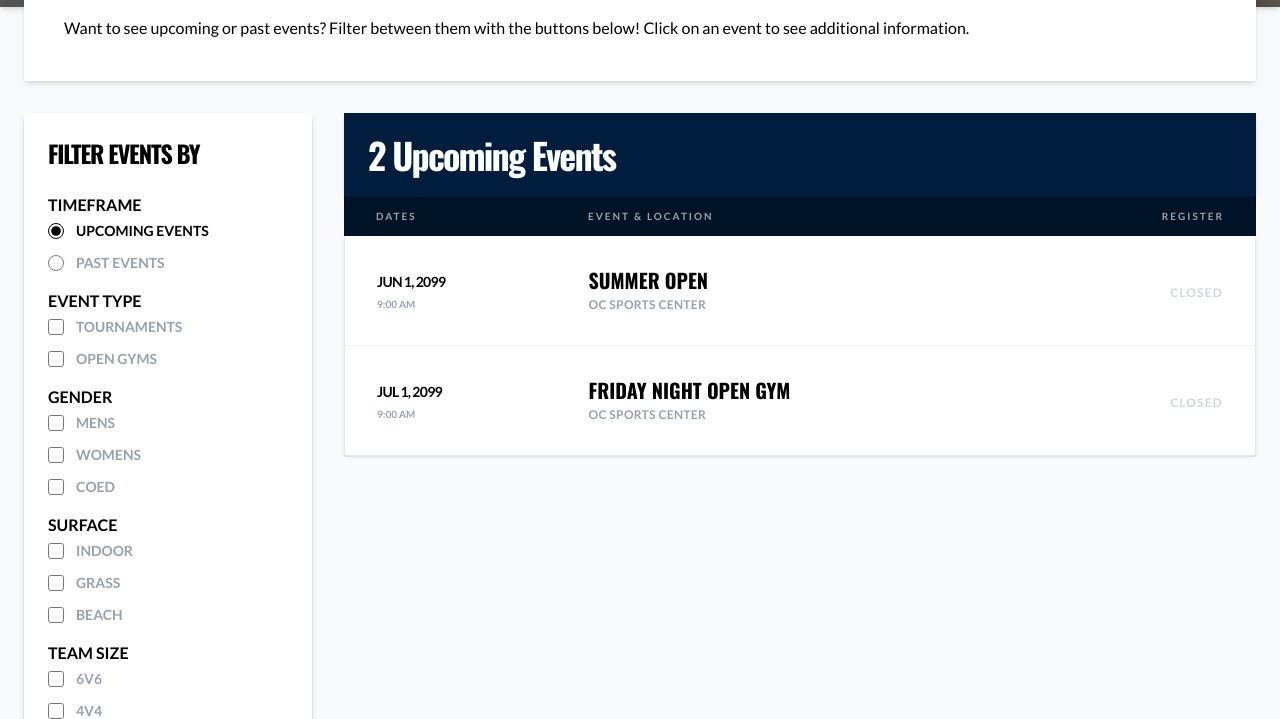
Scenario: EventList › filter — event type › hides tournament events when Open Gyms is checked
(page scrolled)
Click the checkbox labelled "Open Gyms" at (56, 359), box [48,351,64,367]
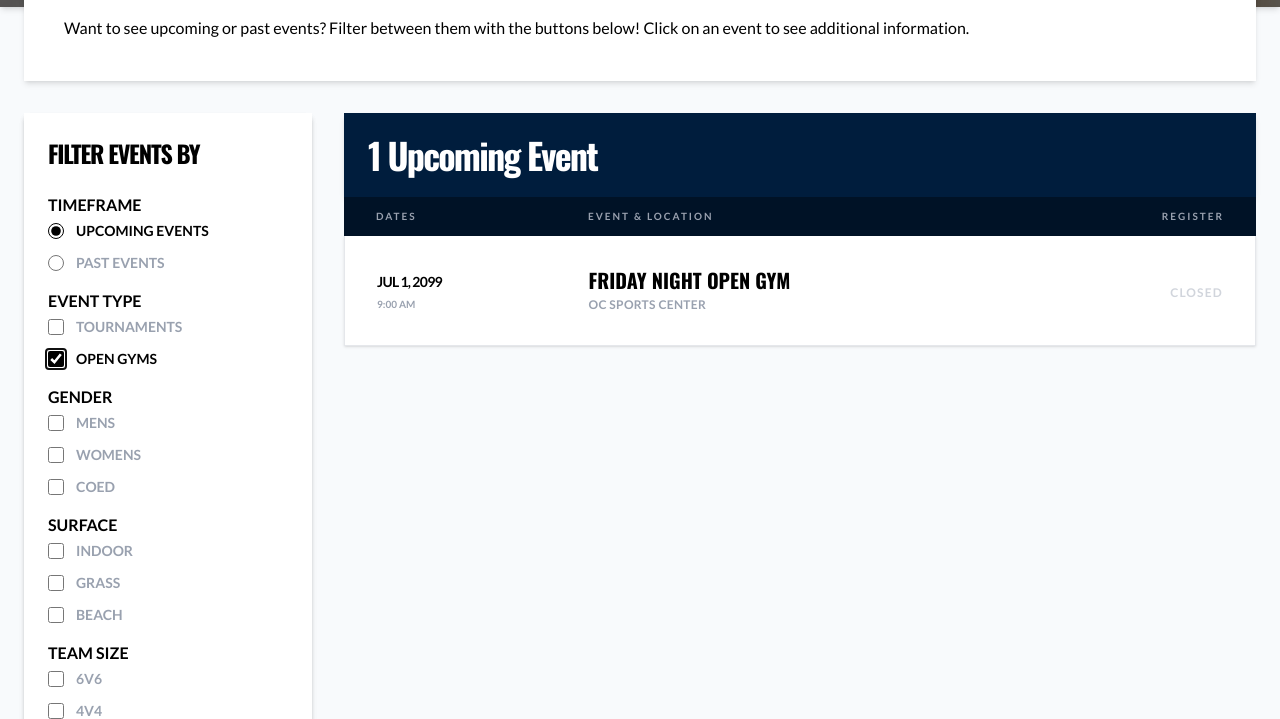
Check: the heading "Friday Night Open Gym" is shown, box [588,265,790,295]
Check: the link "Summer Open" is gone
